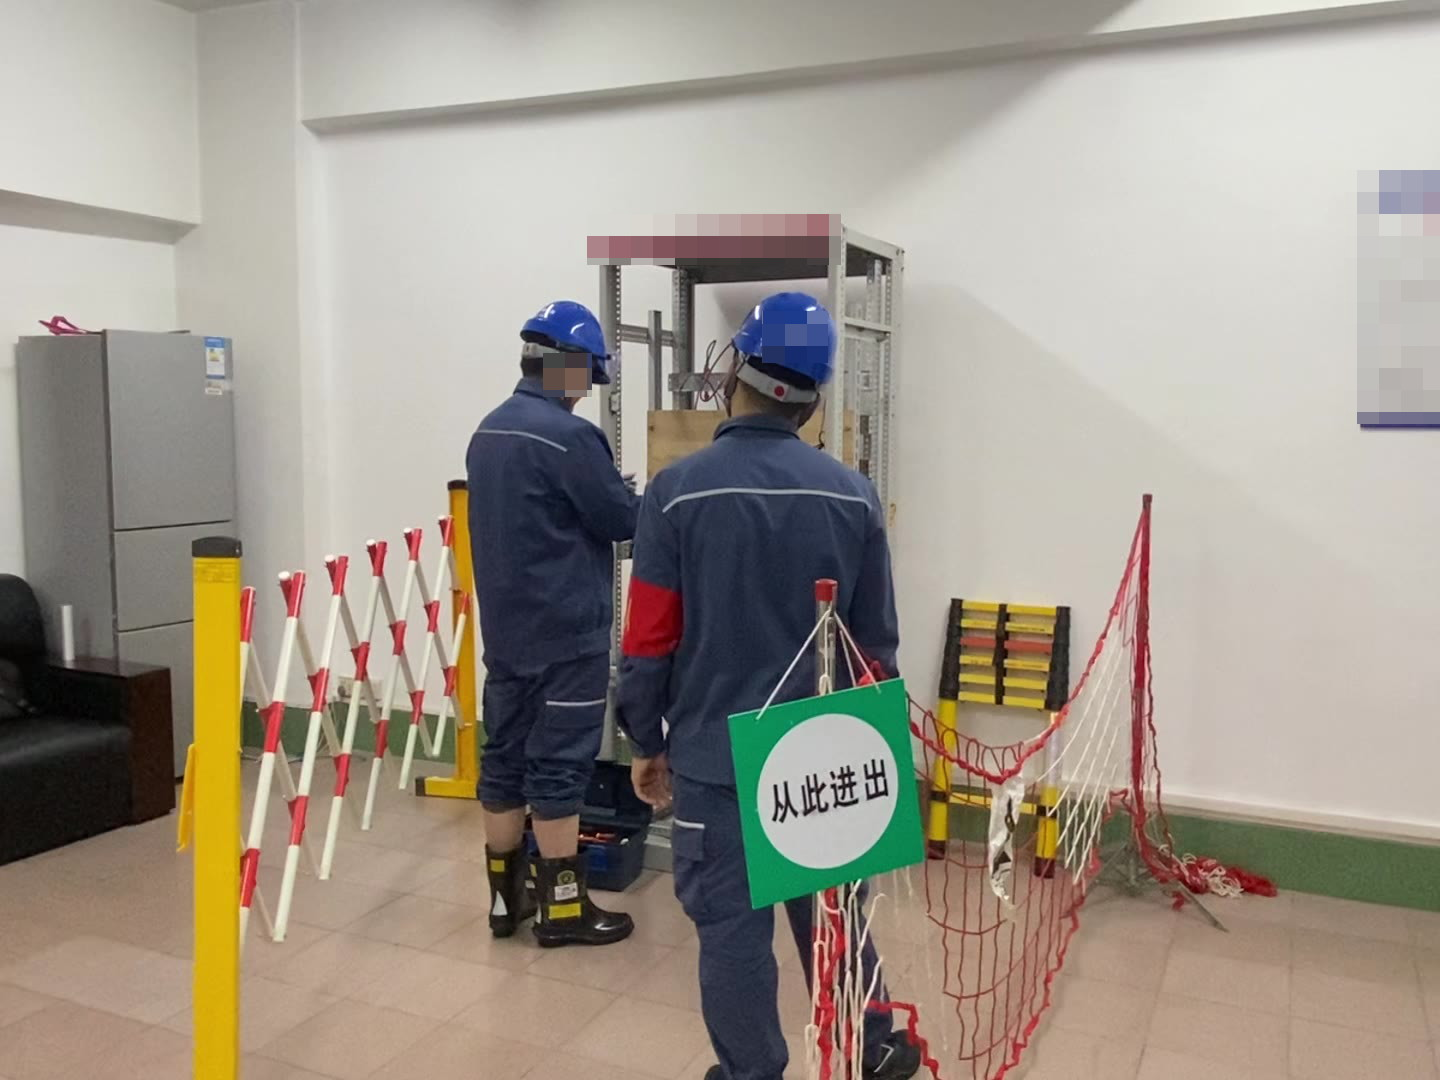badge: (623, 578, 685, 659)
downsuit: (648, 754, 893, 1080), (479, 677, 607, 815)
halt: (716, 289, 840, 428), (517, 299, 613, 395)
hand: (631, 758, 677, 817)
inear: (559, 342, 598, 402)
intosign: (717, 670, 930, 917)
person: (621, 282, 922, 1080), (458, 298, 631, 946)
shoe: (486, 839, 635, 946)
upsuit: (620, 419, 900, 736), (463, 391, 631, 667)
wrongbottom: (484, 773, 583, 864)
